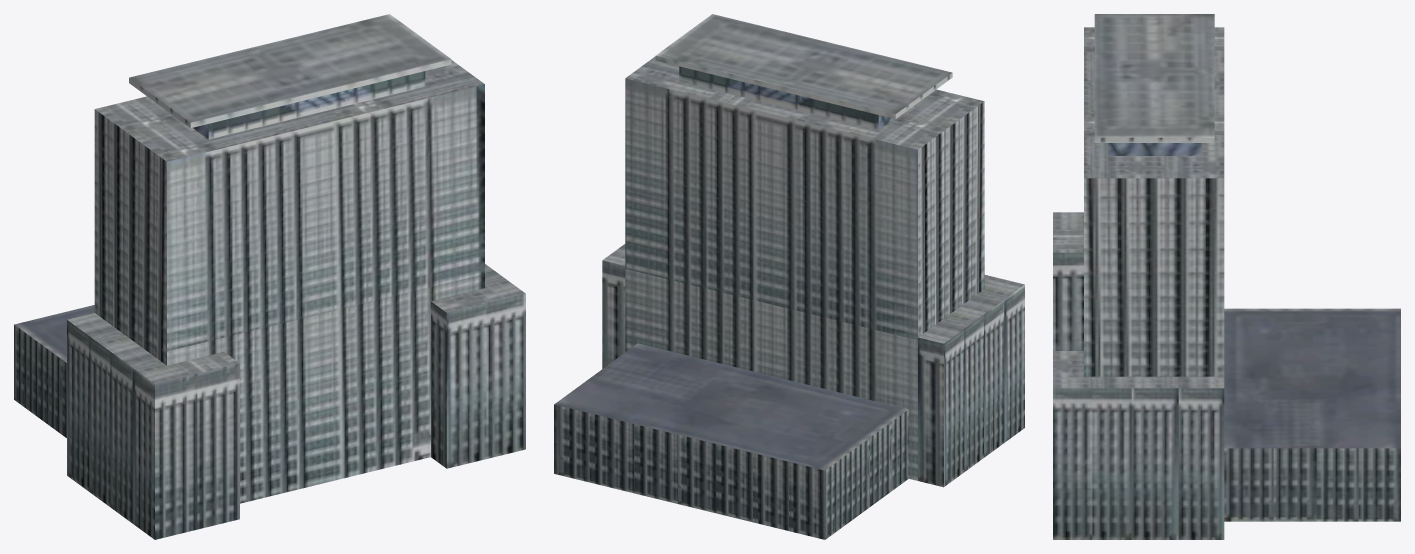
File: customs_d29ae84d.glb
3 renders of one model, left to right at view 1: azimuth 30°, elevation 25°; view 2: azimuth 150°, elevation 25°; view 3: azimuth 270°, elevation 25°, orthographic. The views are drawn at different scales.
Parts seen in each view (by area): view 1: customs_d29ae84d; view 2: customs_d29ae84d; view 3: customs_d29ae84d.
Part boxes in pixels (bbox=[...]): customs_d29ae84d: bbox=[14, 14, 525, 539]; customs_d29ae84d: bbox=[554, 14, 1024, 539]; customs_d29ae84d: bbox=[1053, 14, 1400, 539].
Bounding box in the file's own units: 104 × 104 × 87.18.
1 material, 1 textured.
